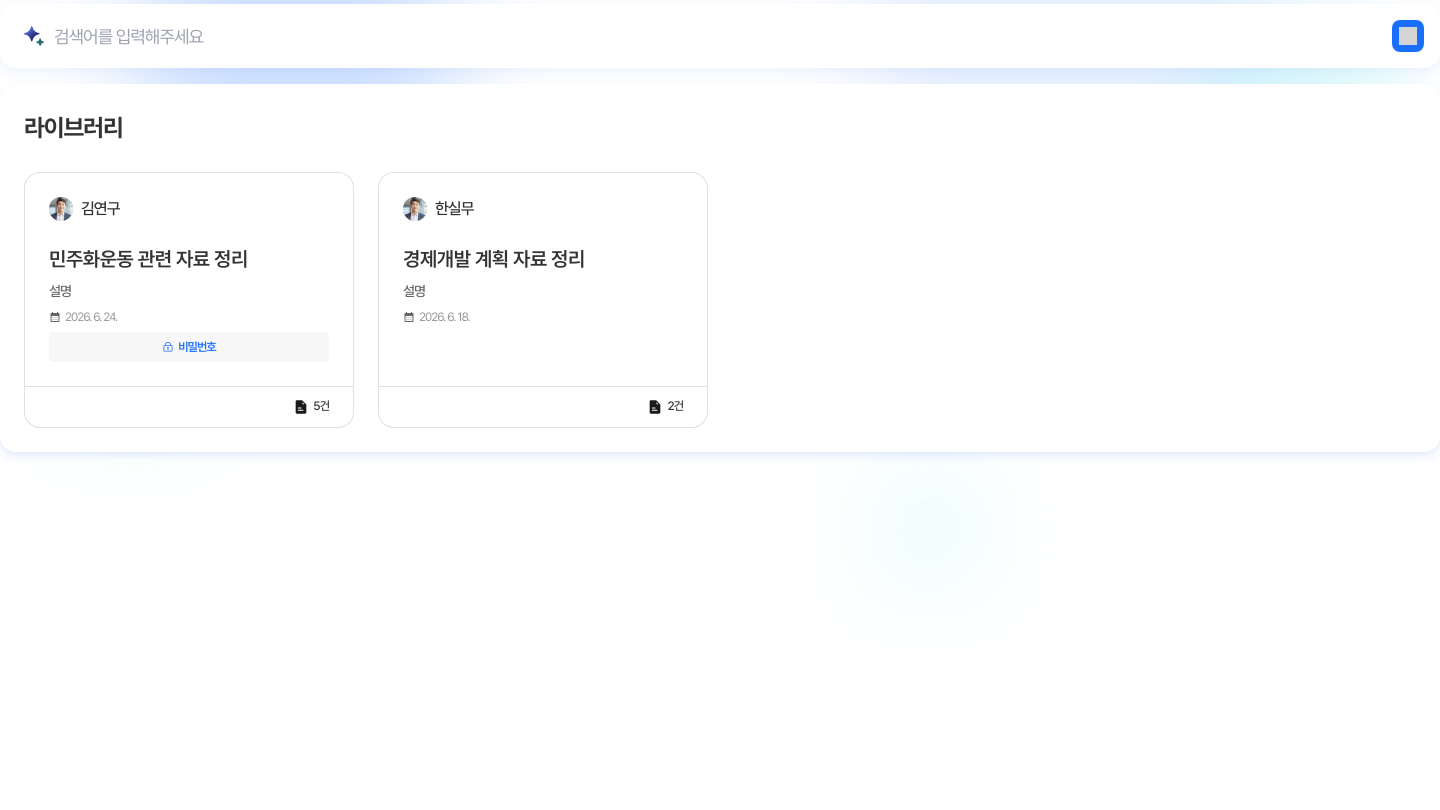
Scenario: 암호가 틀리면(403) 모달을 닫지 않고 "암호가 맞지 않습니다"를 보여준다
Click the button "민주화운동 관련 자료 정리" at (148, 259), box [49,245,248,273]
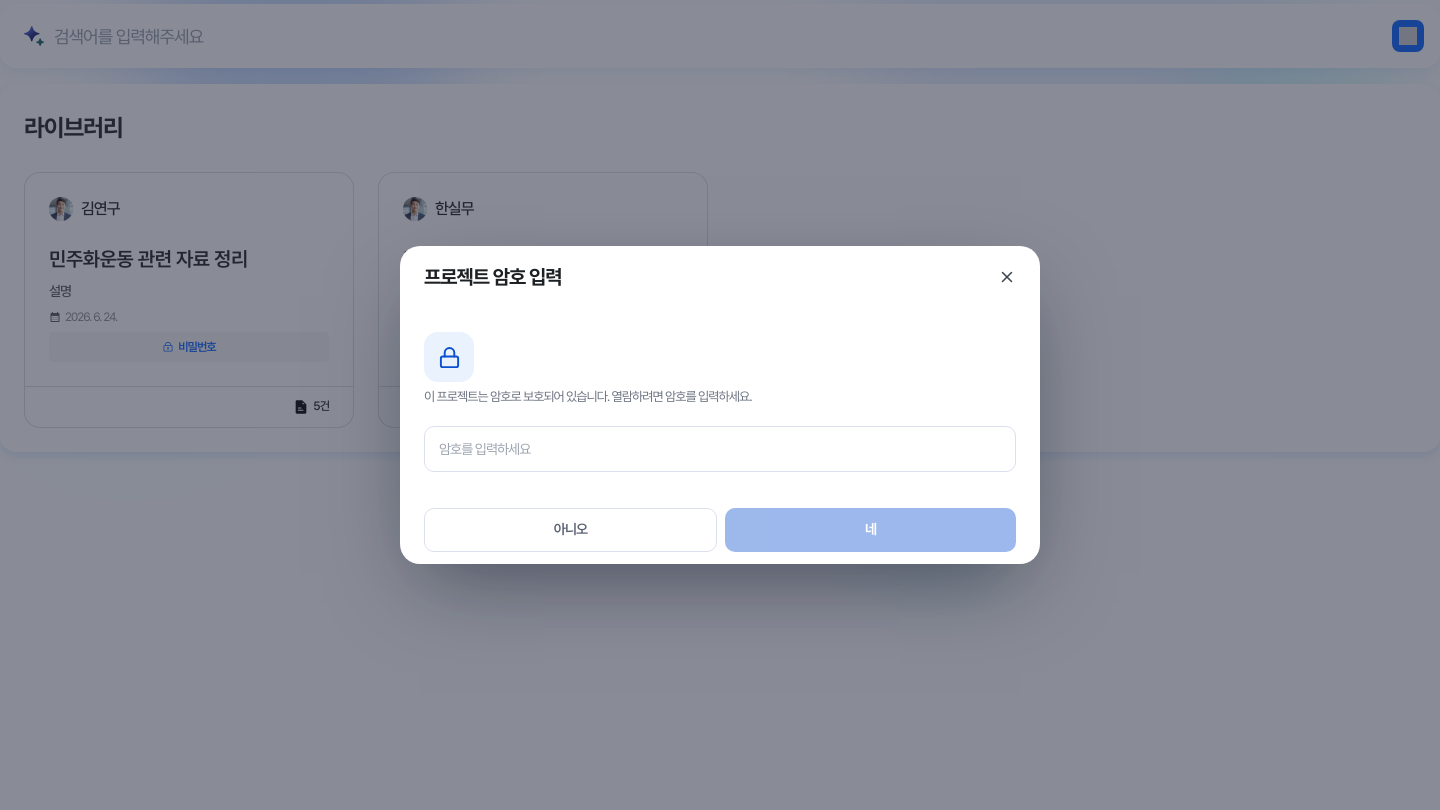
Type "0000" into the password field with placeholder "암호를 입력하세요" at (720, 449), box [424,426,1016,472]
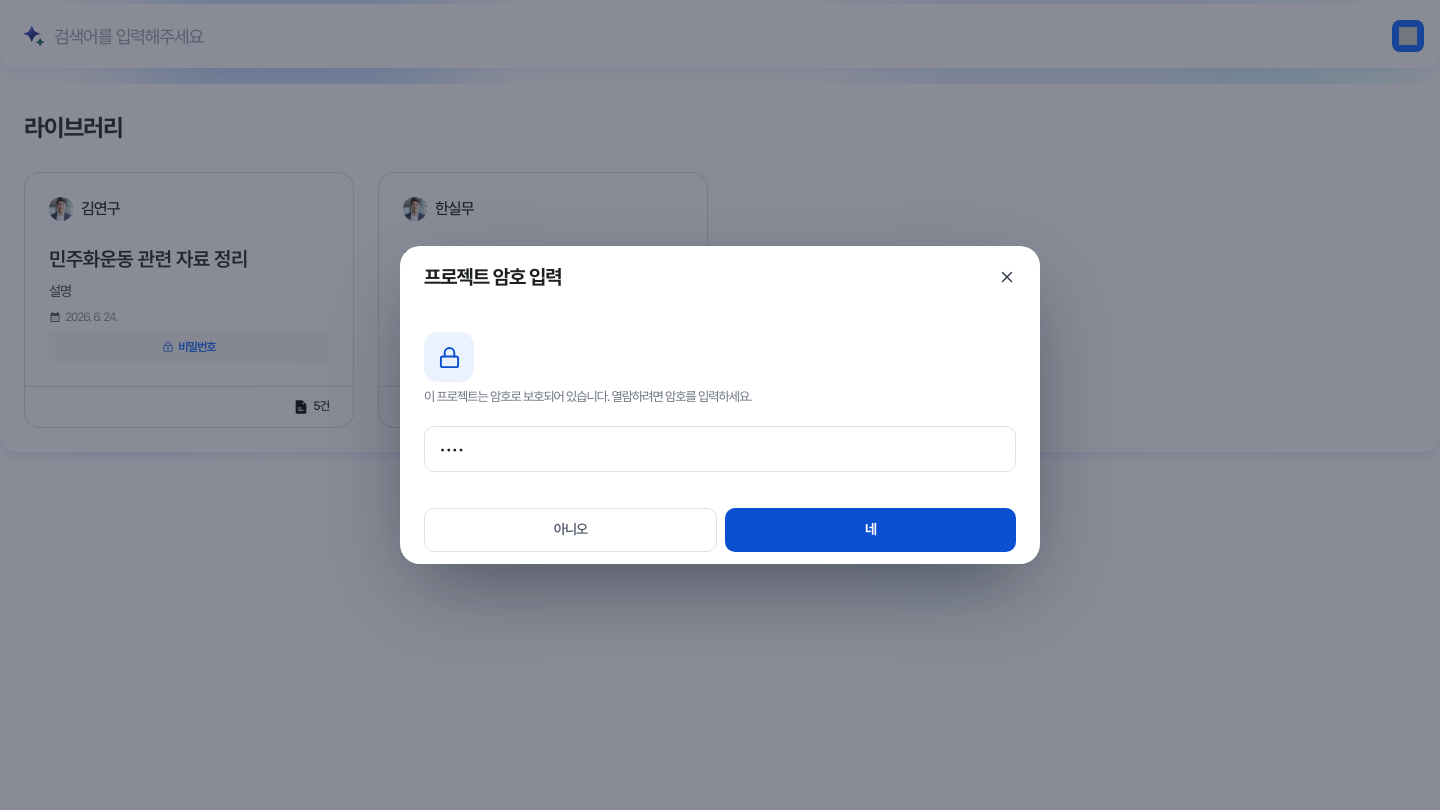
Click the button "네" at (870, 530), box [725,508,1016,552]
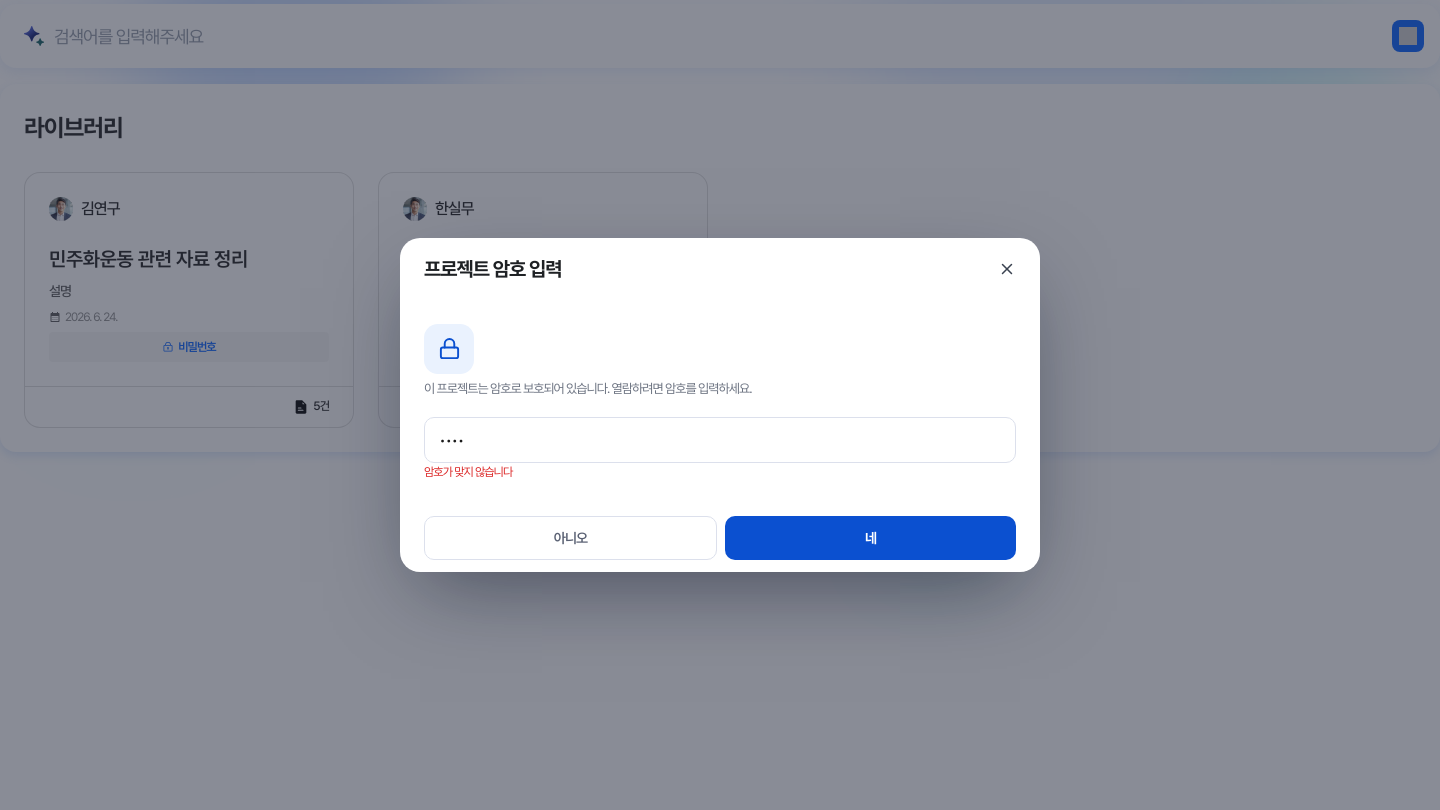
Expected: the heading "프로젝트 암호 입력" is shown, [424,254,562,284]
Expected: the text "암호가 맞지 않습니다" is shown, [424,465,512,479]
